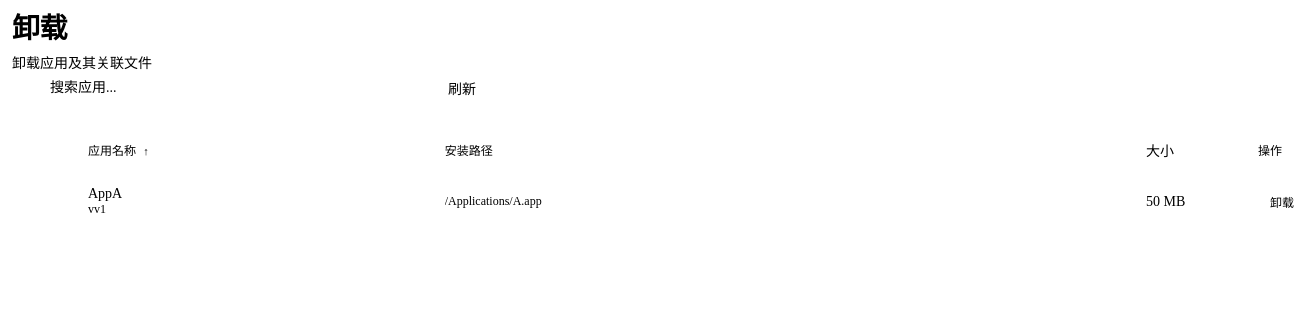
UninstallView 组件 › 深度交互测试 › 搜索无结果时显示未找到匹配的提示
This screenshot has width=1311, height=332.
Type "NonExistent" into the field with class "input-with-icon". click: (212, 88)
box: [12,72,412,104]
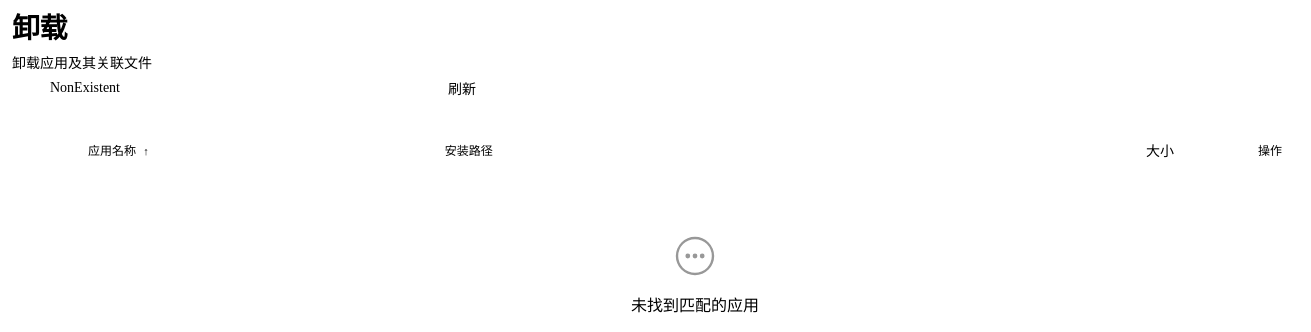
expect the element with class "app-empty" is shown: met, box [631,232,759,314]
expect the text "未找到匹配的应用" is shown: met, box [631,292,759,316]
